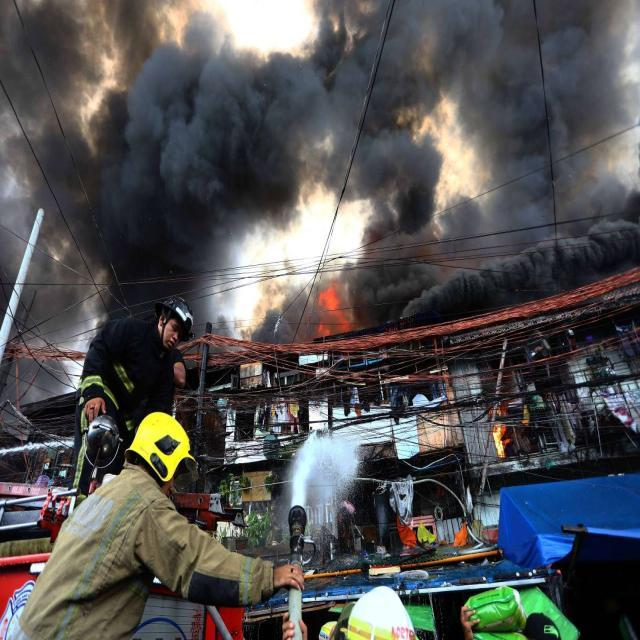Fire: (307, 276, 352, 347), (484, 402, 512, 464)
Smoke: (344, 3, 640, 326), (1, 1, 318, 276)
